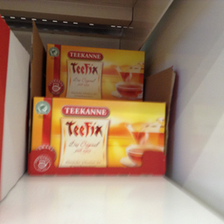tea: (30, 96, 168, 167), (45, 42, 145, 99)
